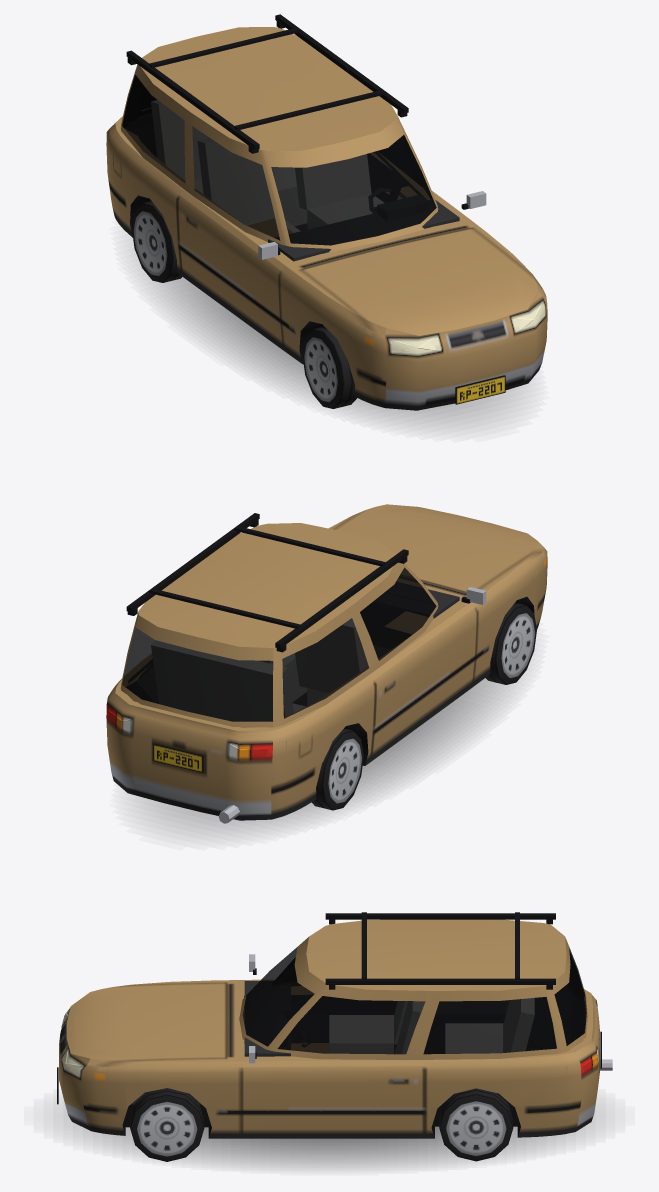
The model's file is rapadura.glb.
3 views of the same model, one above another, from view 1: azimuth 30°, elevation 25°; view 2: azimuth 150°, elevation 25°; view 3: azimuth 270°, elevation 25° (orthographic). The views are drawn at different scales.
Parts seen in each view (by area): view 1: Carroceria, Interior, Capo_malha, Porta_D_malha, Sombra, Roda_DD, Roda_TD, Porta_E_malha, Tampa_malha; view 2: Carroceria, Tampa_malha, Interior, Porta_D_malha, Capo_malha, Sombra, Roda_TD, Roda_DD, Lanterna; view 3: Carroceria, Porta_E_malha, Interior, Capo_malha, Sombra, Roda_DE, Roda_TE, Tampa_malha.
Part boxes in pixels (bbox=[...]): Carroceria: bbox=[106, 14, 547, 410]; Interior: bbox=[125, 100, 459, 326]; Capo_malha: bbox=[300, 228, 543, 335]; Porta_D_malha: bbox=[177, 115, 285, 341]; Sombra: bbox=[139, 263, 520, 427]; Roda_DD: bbox=[302, 326, 356, 408]; Roda_TD: bbox=[132, 201, 182, 282]; Porta_E_malha: bbox=[378, 116, 486, 209]; Tampa_malha: bbox=[123, 75, 156, 127]; Carroceria: bbox=[106, 506, 547, 823]; Tampa_malha: bbox=[121, 615, 273, 798]; Interior: bbox=[126, 582, 515, 720]; Porta_D_malha: bbox=[357, 562, 486, 753]; Capo_malha: bbox=[333, 504, 543, 592]; Sombra: bbox=[138, 678, 511, 835]; Roda_TD: bbox=[312, 728, 363, 810]; Roda_DD: bbox=[485, 602, 536, 684]; Lanterna: bbox=[108, 710, 286, 757]; Carroceria: bbox=[57, 912, 612, 1138]; Porta_E_malha: bbox=[242, 985, 425, 1130]; Interior: bbox=[131, 966, 584, 1104]; Capo_malha: bbox=[72, 982, 226, 1066]; Sombra: bbox=[63, 1104, 595, 1167]; Roda_DE: bbox=[130, 1088, 204, 1161]; Roda_TE: bbox=[439, 1088, 513, 1161]; Tampa_malha: bbox=[553, 937, 601, 1081].
Bounding box in the file's own units: 2.26 × 1.5 × 4.9.
Materials: 12 (6 with a texture image).
